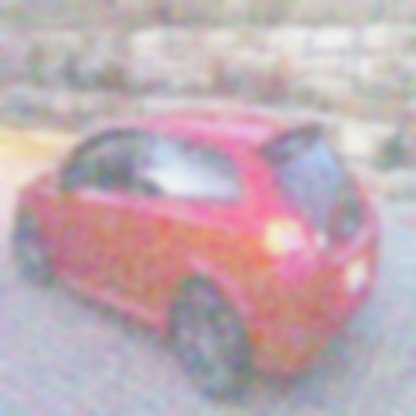Vehicle: (10, 103, 385, 409)
